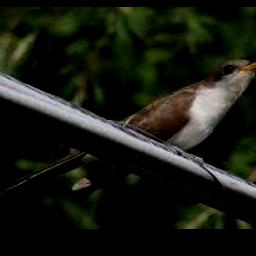Cuckoo: (0, 59, 256, 206)
